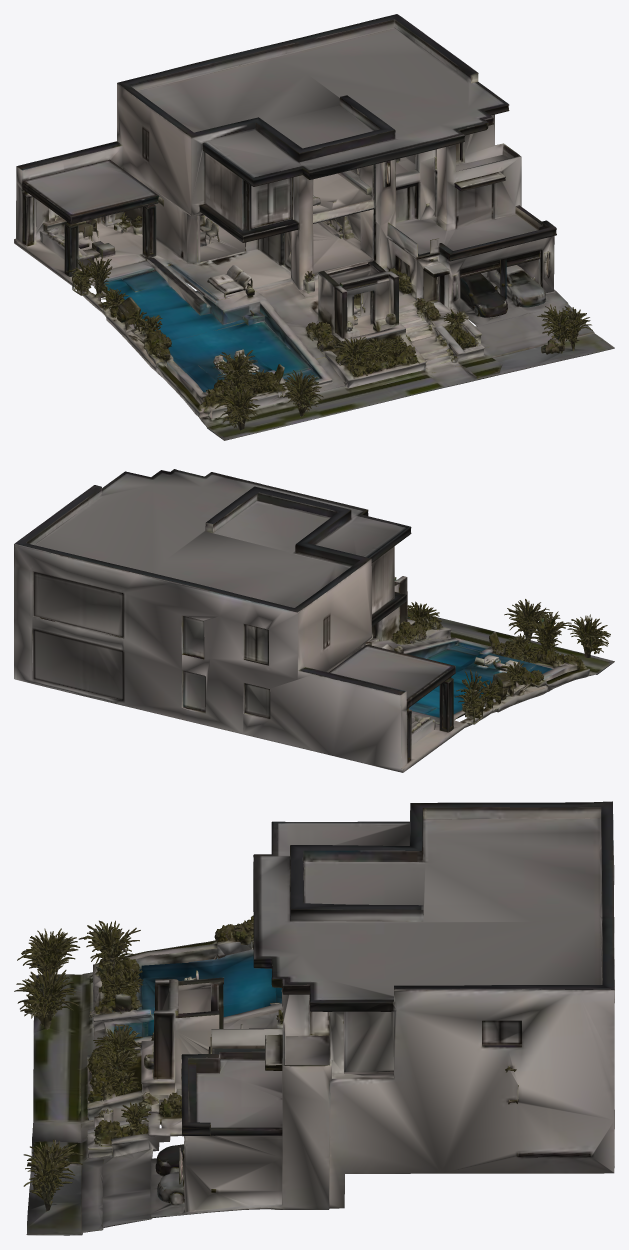
Rendered from villa-house-lite.glb.
3 renders of one model, top to bottom at view 1: azimuth 30°, elevation 25°; view 2: azimuth 150°, elevation 25°; view 3: azimuth 270°, elevation 25°, orthographic. The views are drawn at different scales.
Parts seen in each view (by area): view 1: mesh_node; view 2: mesh_node; view 3: mesh_node.
Part boxes in pixels (left/top/right/bottom): mesh_node: left=14, top=14, right=614, bottom=440; mesh_node: left=14, top=469, right=614, bottom=772; mesh_node: left=14, top=801, right=614, bottom=1235.
Size of the model in its own units: 1.92 by 0.823 by 1.83.
1 material, 1 textured.
